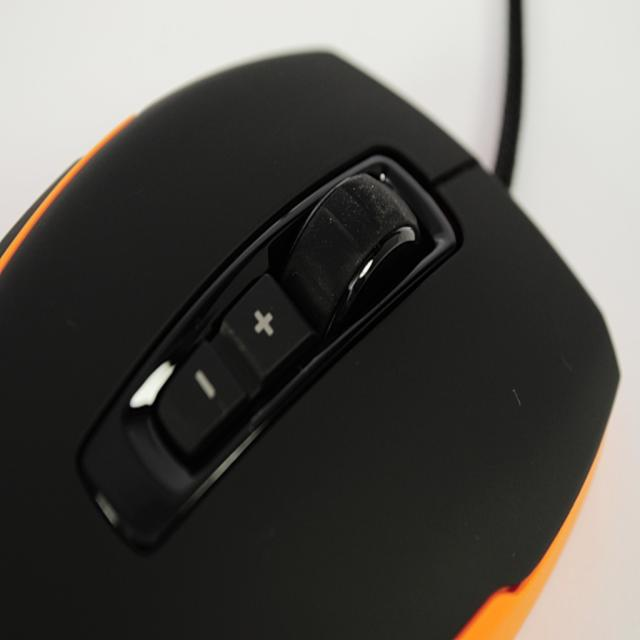Computer-mouse: (2, 52, 622, 639)
